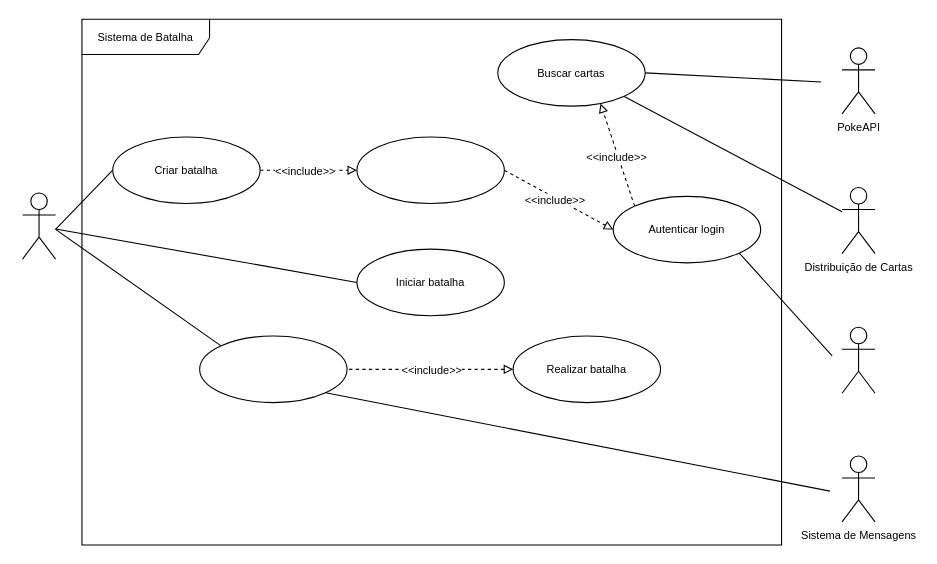
Image size: 937x564. Some labels were removed from this diagram. Each missing label, with the centre of its shape:
"Entrar com o jogador" goes at (x=430, y=170).
"Finalizar batalha" goes at (x=273, y=369).
"Jogador" goes at (x=38, y=225).
"Sistema de Autenticação (Jogador)" goes at (x=858, y=359).
